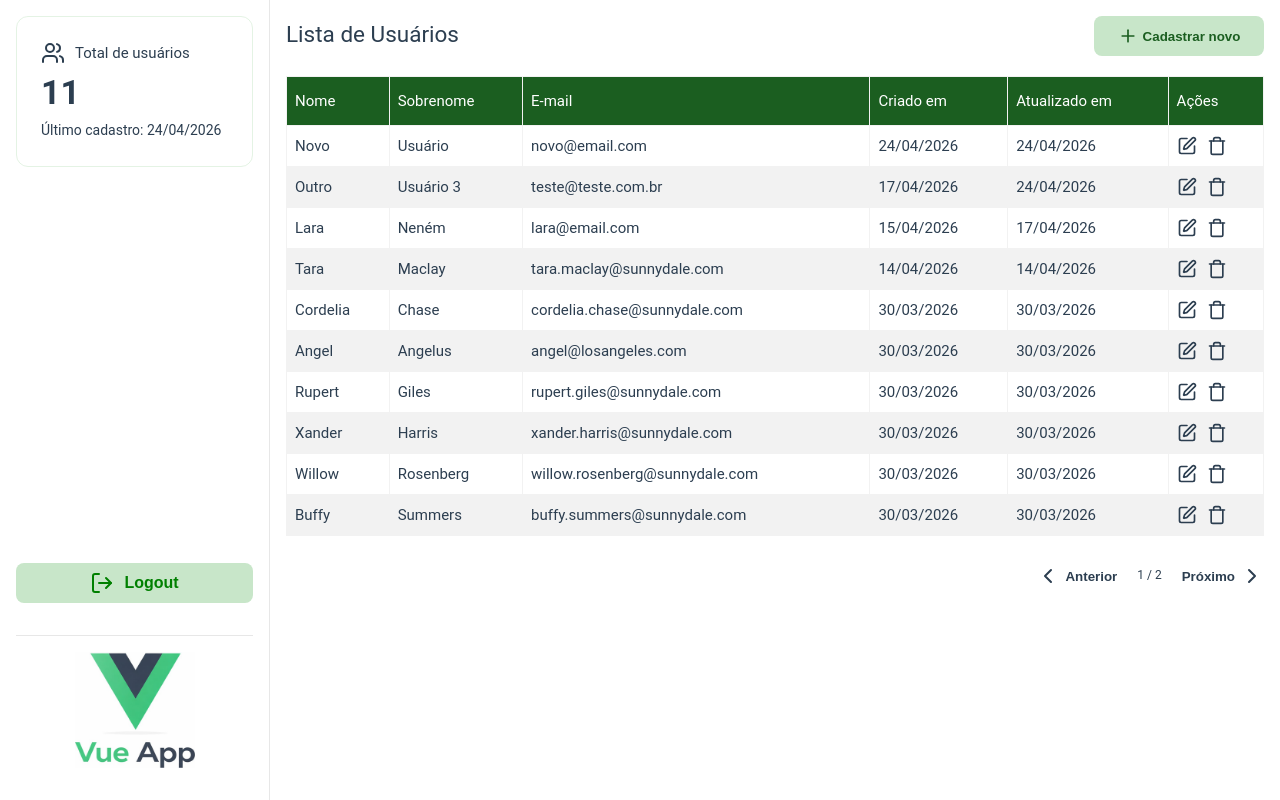
Test case: Users Delete › Should select user, open dialog and get error when delete
Click the 1st icon with test id "delete-user": click(1217, 146) [1207,136,1227,156]
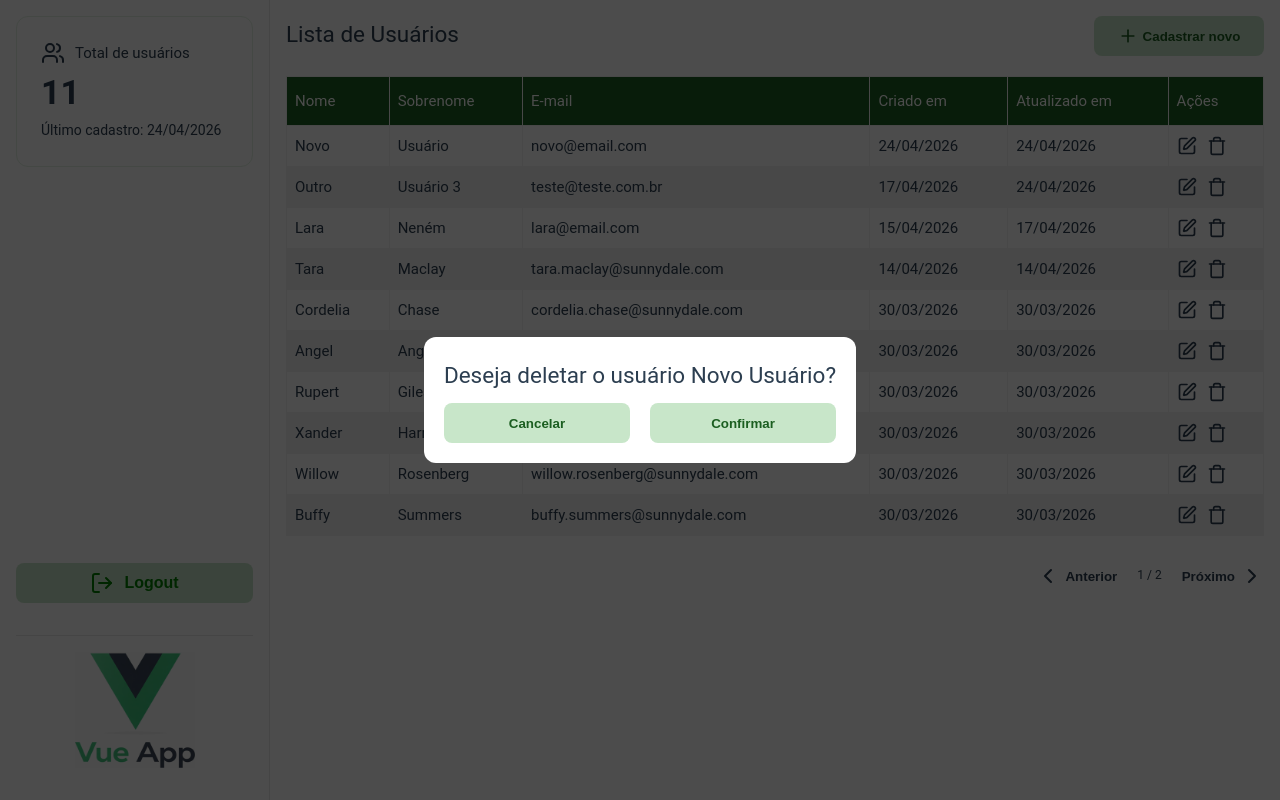
Expected: the heading with test id "delete-title" reads "Deseja deletar o usuário Novo Usuário?", [444,357,836,393]
Click the button "Confirmar": click(743, 423) [650,403,836,443]
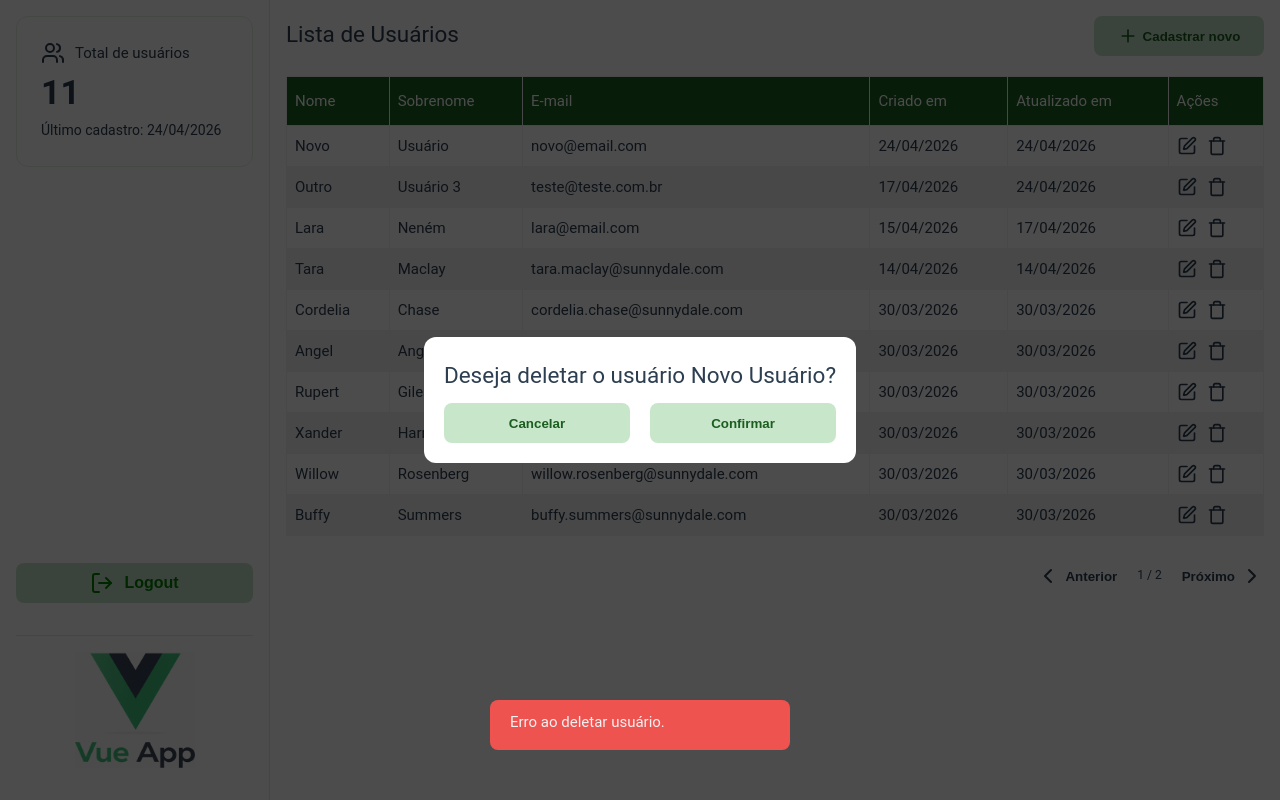
Expected: the element with test id "snackbar" reads "Erro ao deletar usuário.", [490,700,790,750]
